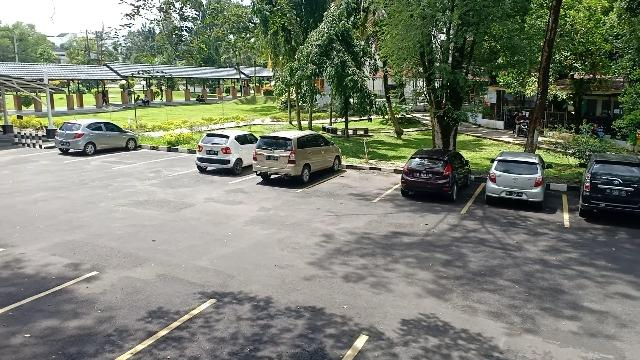empty: (320, 160, 398, 202), (100, 149, 160, 169), (156, 155, 198, 177)
occupied: (474, 166, 566, 214), (246, 144, 340, 190), (398, 158, 474, 208), (54, 126, 142, 158), (195, 138, 251, 184)
